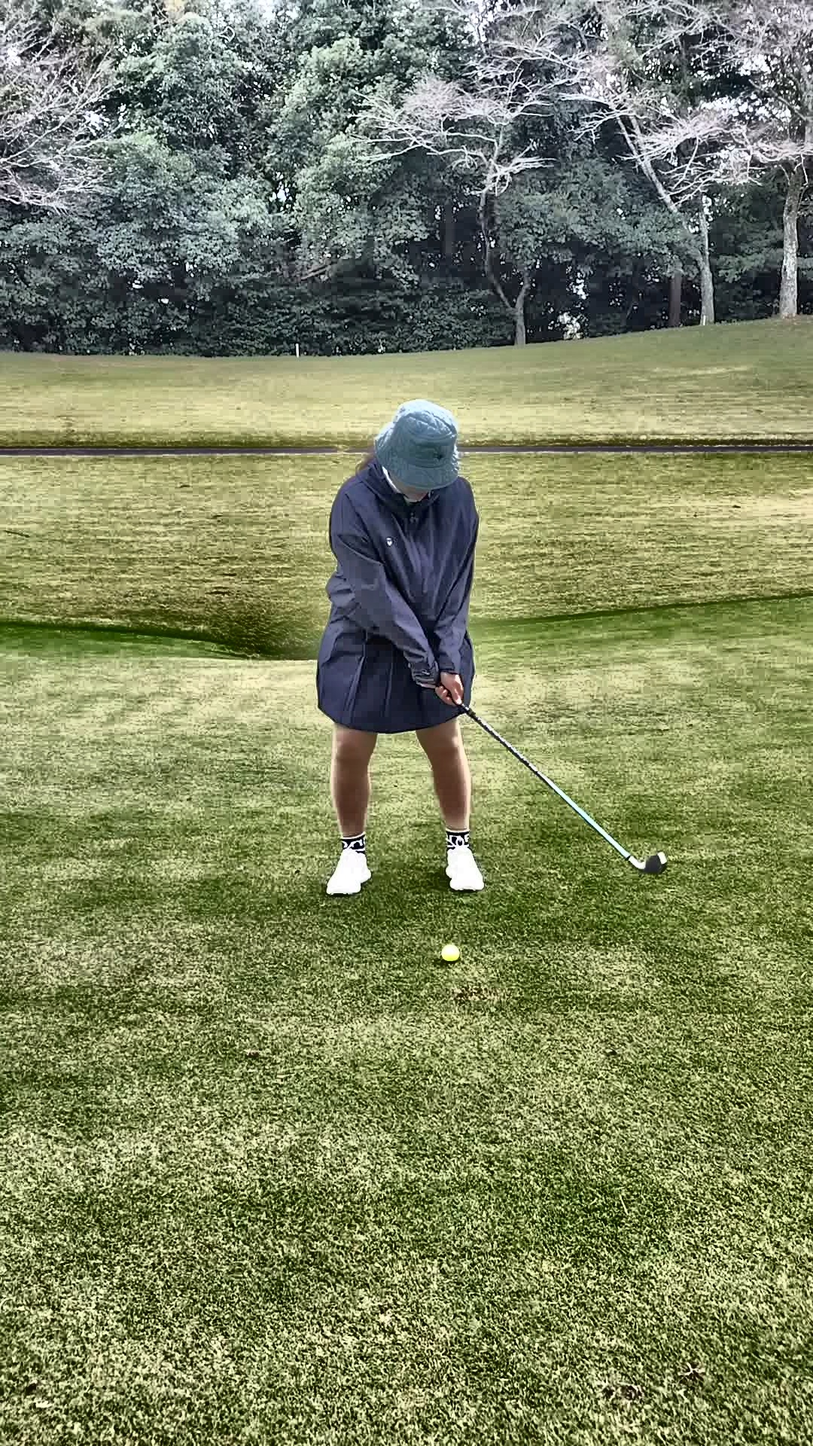clubhead: (593, 820, 698, 983)
